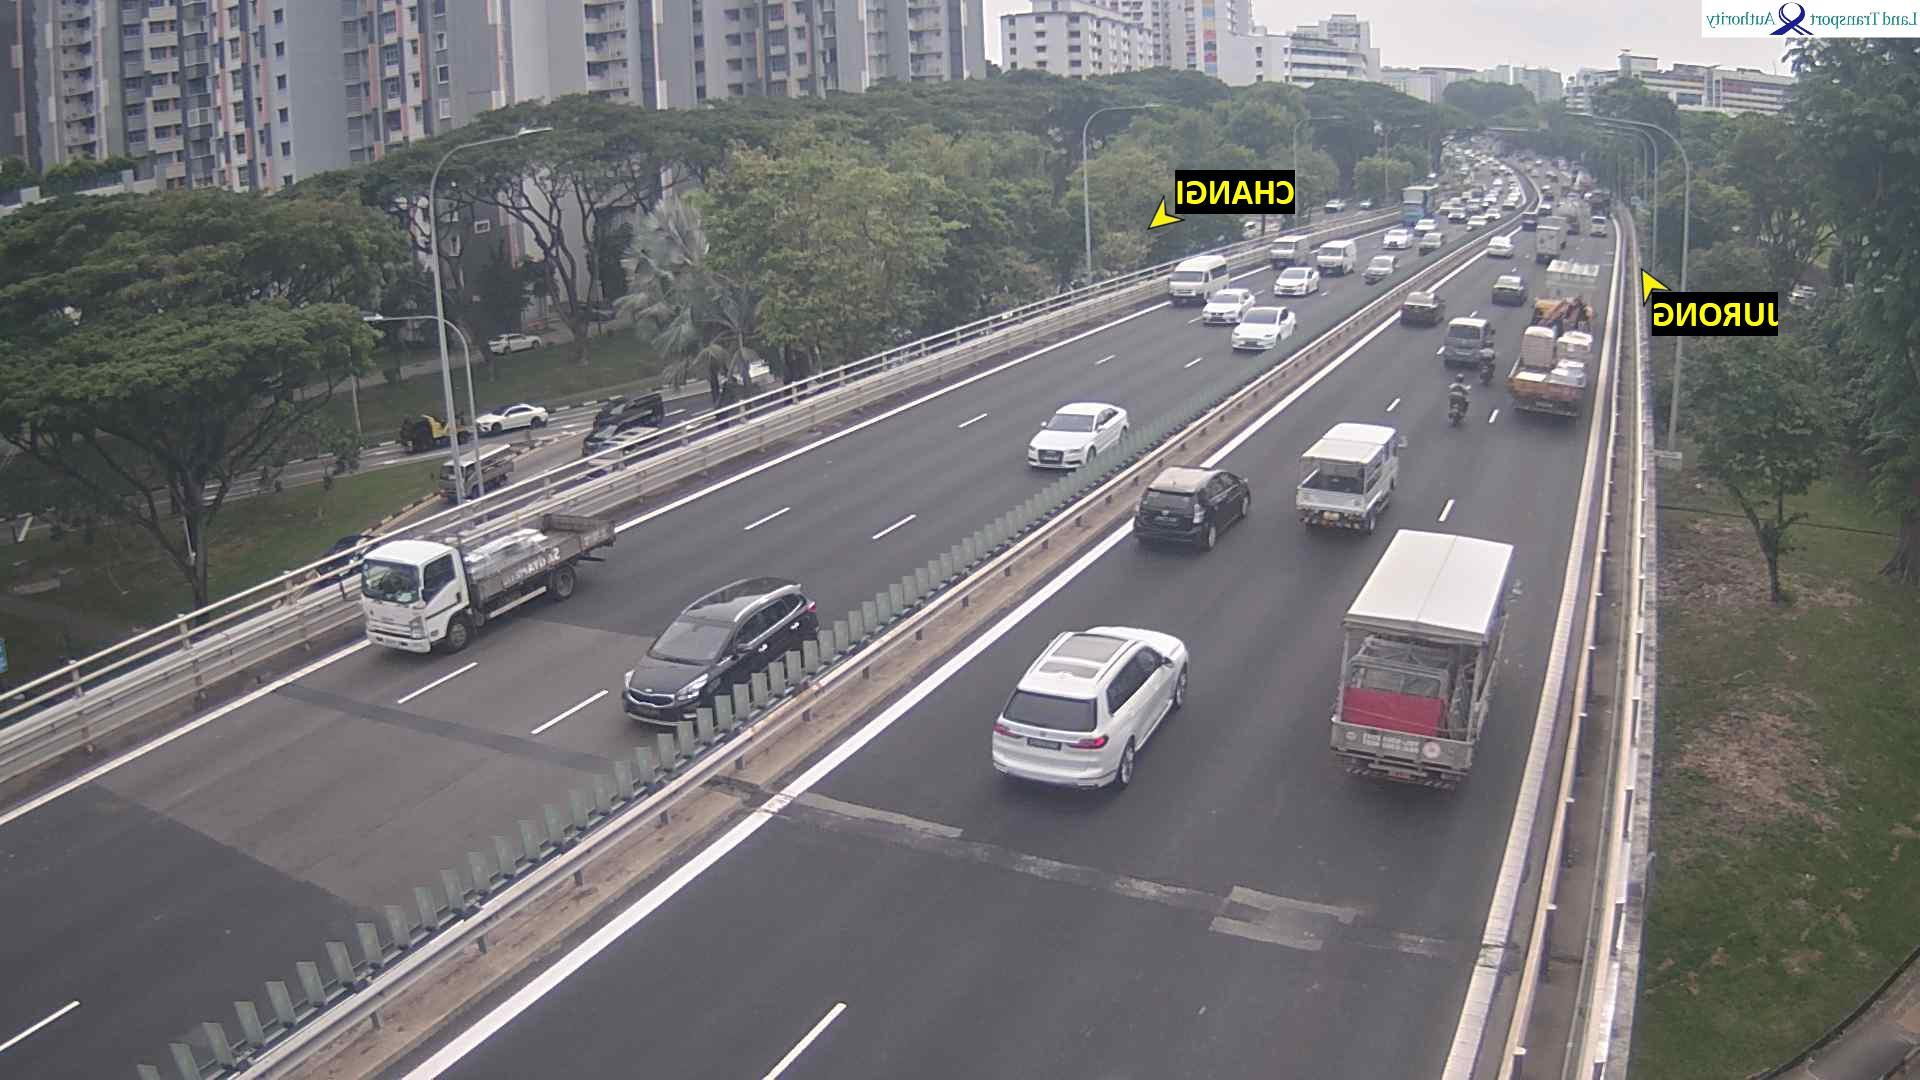incoming: (614, 610, 754, 732), (358, 553, 443, 660), (1020, 410, 1109, 473), (1230, 308, 1289, 354), (1167, 266, 1213, 308), (1201, 291, 1247, 330), (1271, 268, 1313, 299), (1314, 246, 1349, 277), (1266, 239, 1301, 270), (1363, 258, 1401, 285), (1398, 200, 1427, 228), (1380, 230, 1411, 250), (1416, 234, 1444, 253), (1466, 216, 1491, 233), (1413, 220, 1437, 236), (1446, 208, 1468, 224), (1484, 208, 1501, 221)
